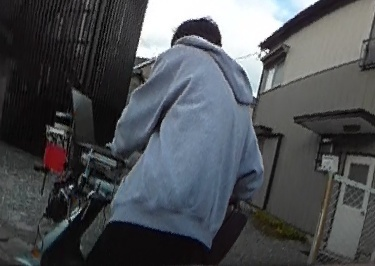person: (92, 15, 274, 266)
